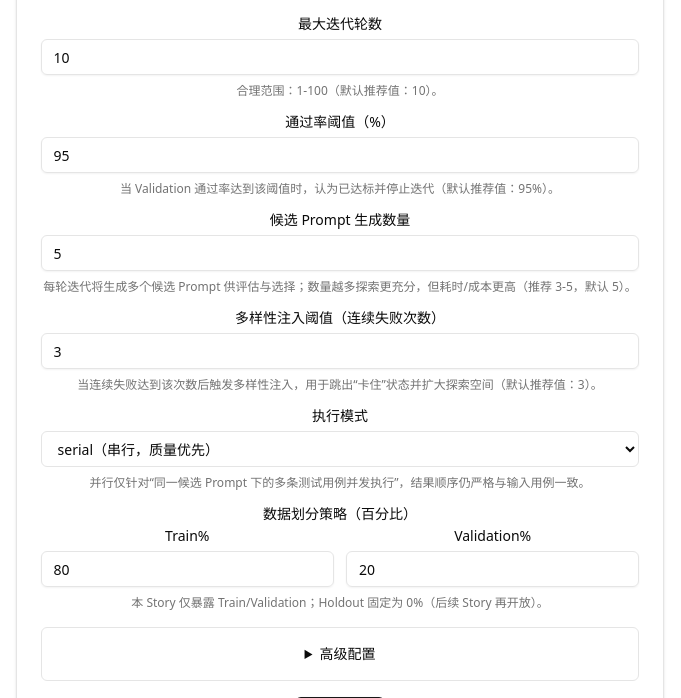
Scenario: OptimizationTaskConfigView › 多样性注入阈值越界时应本地拦截且不发送请求
(page scrolled)
Replace the text in the number field labelled "多样性注入阈值（连续失败次数）" with "11": [340, 351] box [41, 333, 639, 369]
(page scrolled)
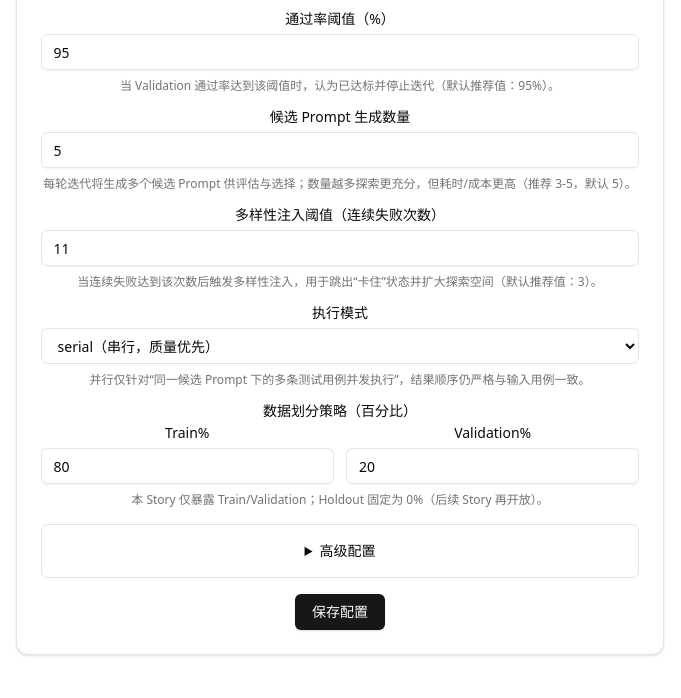
Click the button "保存配置": [340, 612] box [295, 594, 385, 630]
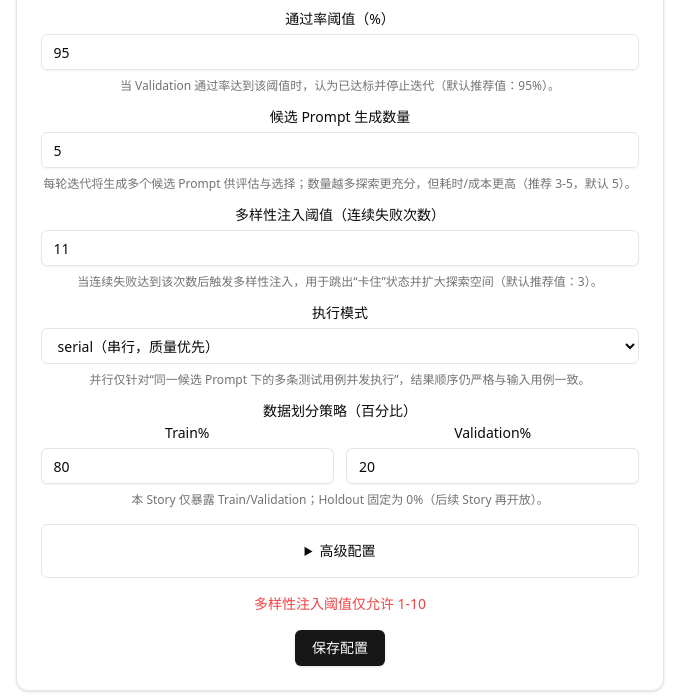
Expected: the text "多样性注入阈值仅允许 1-10" is shown, [254, 594, 426, 613]
